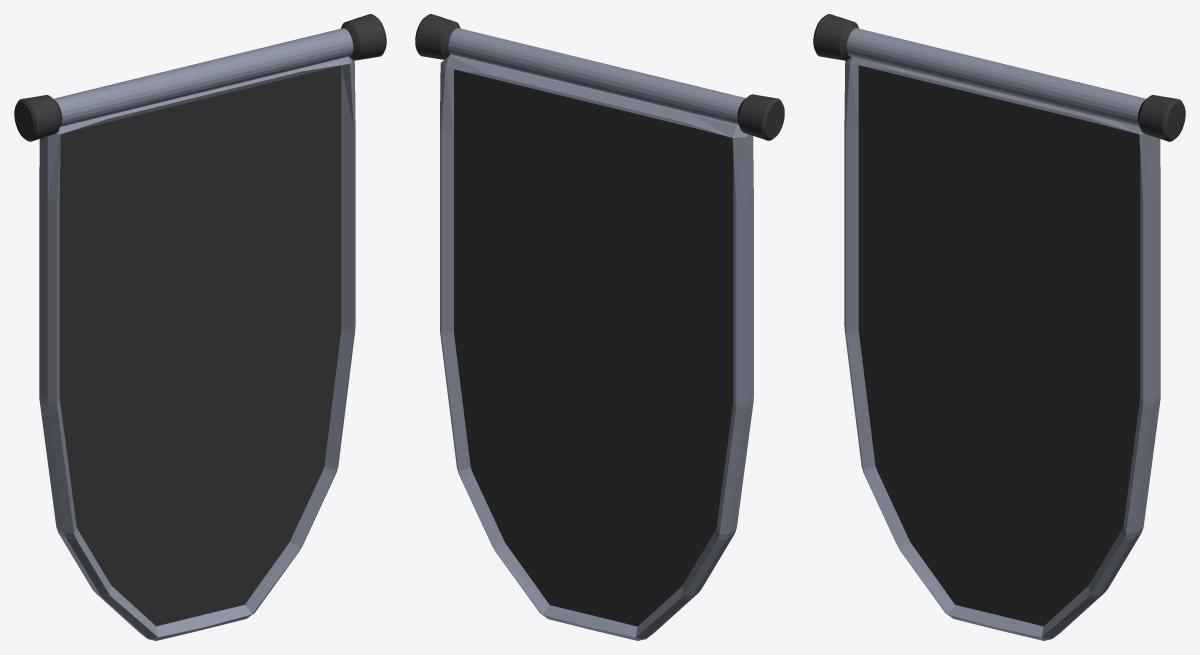
File: banner.fbx
3 renders of one model, left to right at view 1: azimuth 30°, elevation 25°; view 2: azimuth 150°, elevation 25°; view 3: azimuth 330°, elevation 25°, orthographic.
Parts seen in each view (by area): view 1: banner, banner_pole; view 2: banner, banner_pole; view 3: banner, banner_pole.
Boxes of the visible parts, box(x1,y1,x2,y2) form: banner: box(39, 56, 355, 640); banner_pole: box(14, 14, 386, 141); banner: box(440, 55, 753, 640); banner_pole: box(415, 14, 784, 140); banner: box(844, 56, 1160, 640); banner_pole: box(813, 14, 1185, 141).
Size of the model in its own units: 1.3 by 2.02 by 0.1409.
